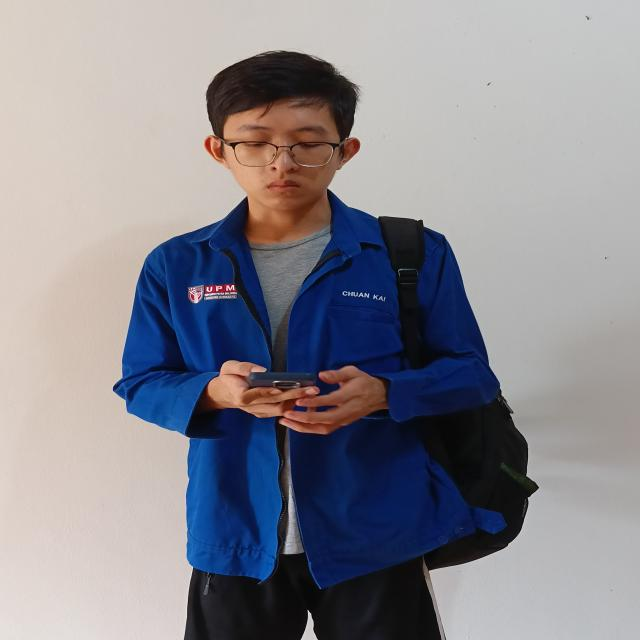person_with_labcoat: (114, 51, 536, 640)
